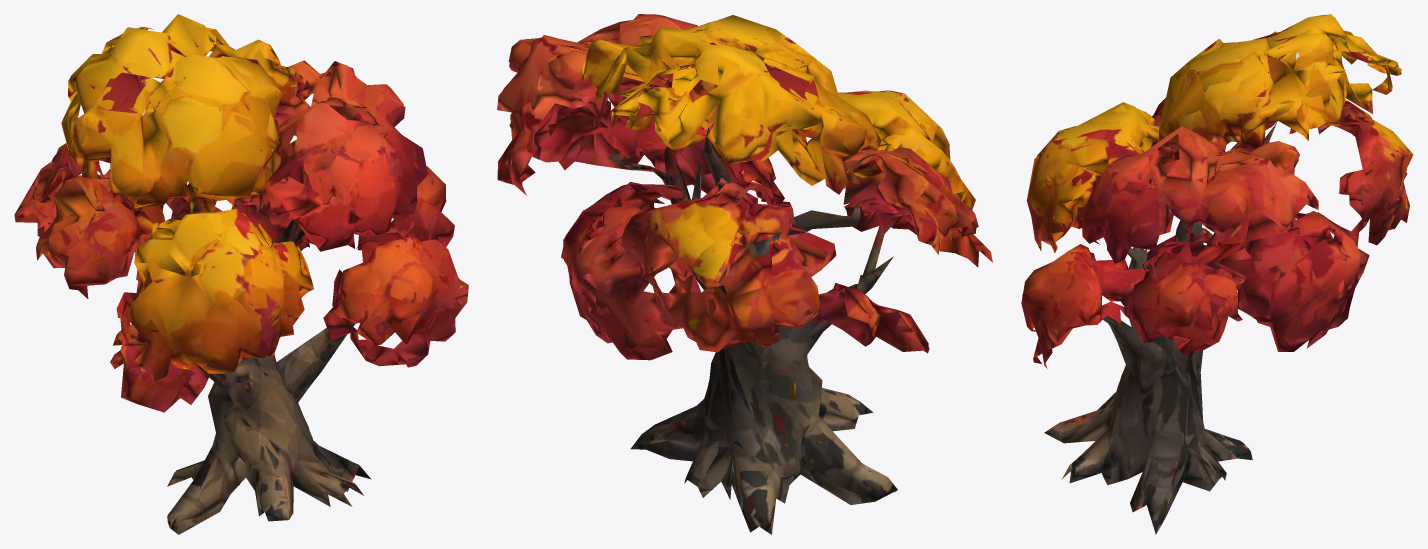
Rendered from tree_autumn_oak.glb.
3 views of the same model, side by side, from view 1: azimuth 30°, elevation 25°; view 2: azimuth 150°, elevation 25°; view 3: azimuth 270°, elevation 25° (orthographic). The views are drawn at different scales.
Visible parts, largest first — view 1: BakeLow; view 2: BakeLow; view 3: BakeLow.
Boxes of the visible parts, x1=… form: BakeLow: x1=14, y1=14, x2=468, y2=534; BakeLow: x1=497, y1=14, x2=992, y2=534; BakeLow: x1=1021, y1=14, x2=1413, y2=534.
Bounding box in the file's own units: 0.7676 × 0.8224 × 0.657.
Materials: 1 (1 with a texture image).
